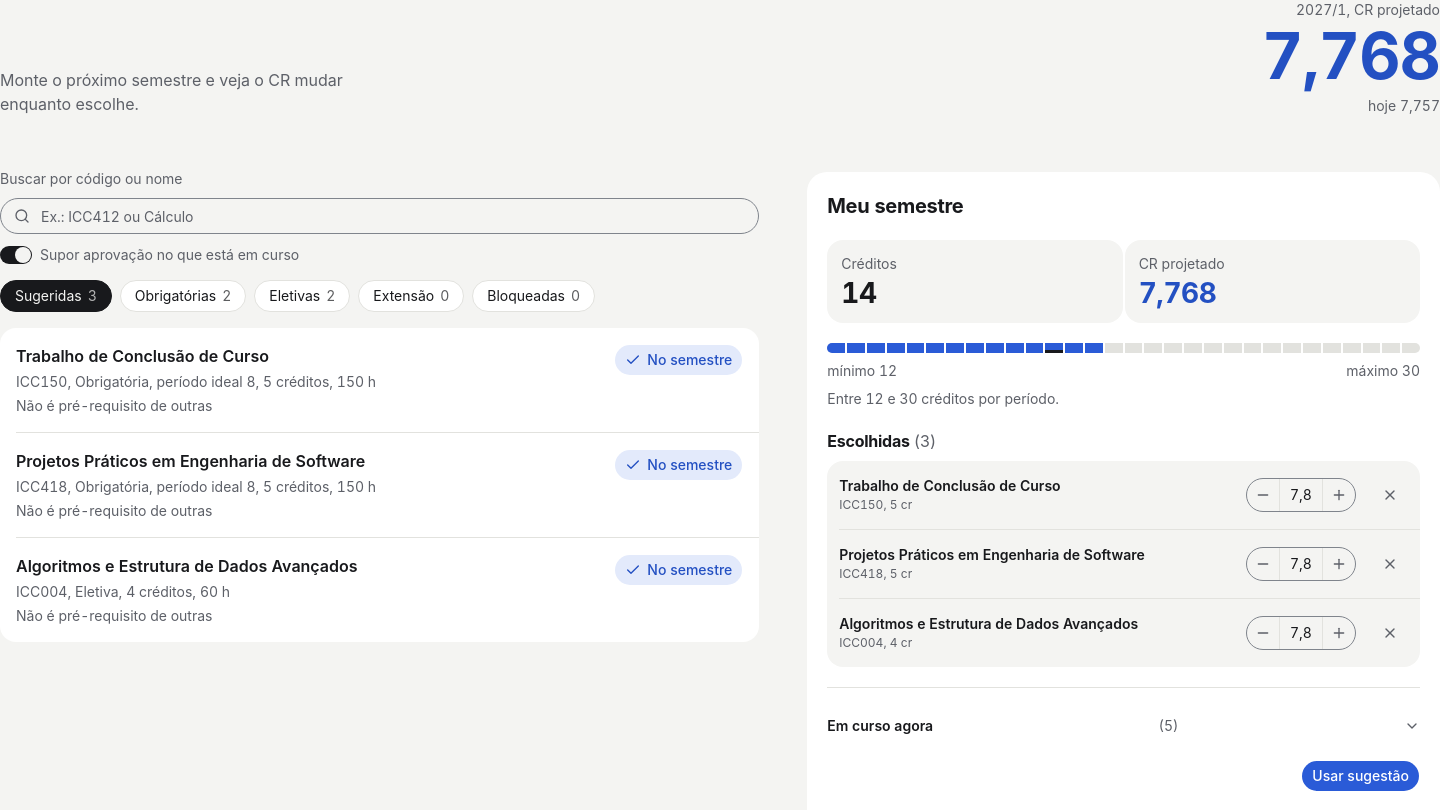
Scenario: PlanningScreen › shows blocked courses with what is missing, and does not let them be added
Click the switch named "Supor aprovação". click: (16, 255)
box: [0,246,32,264]
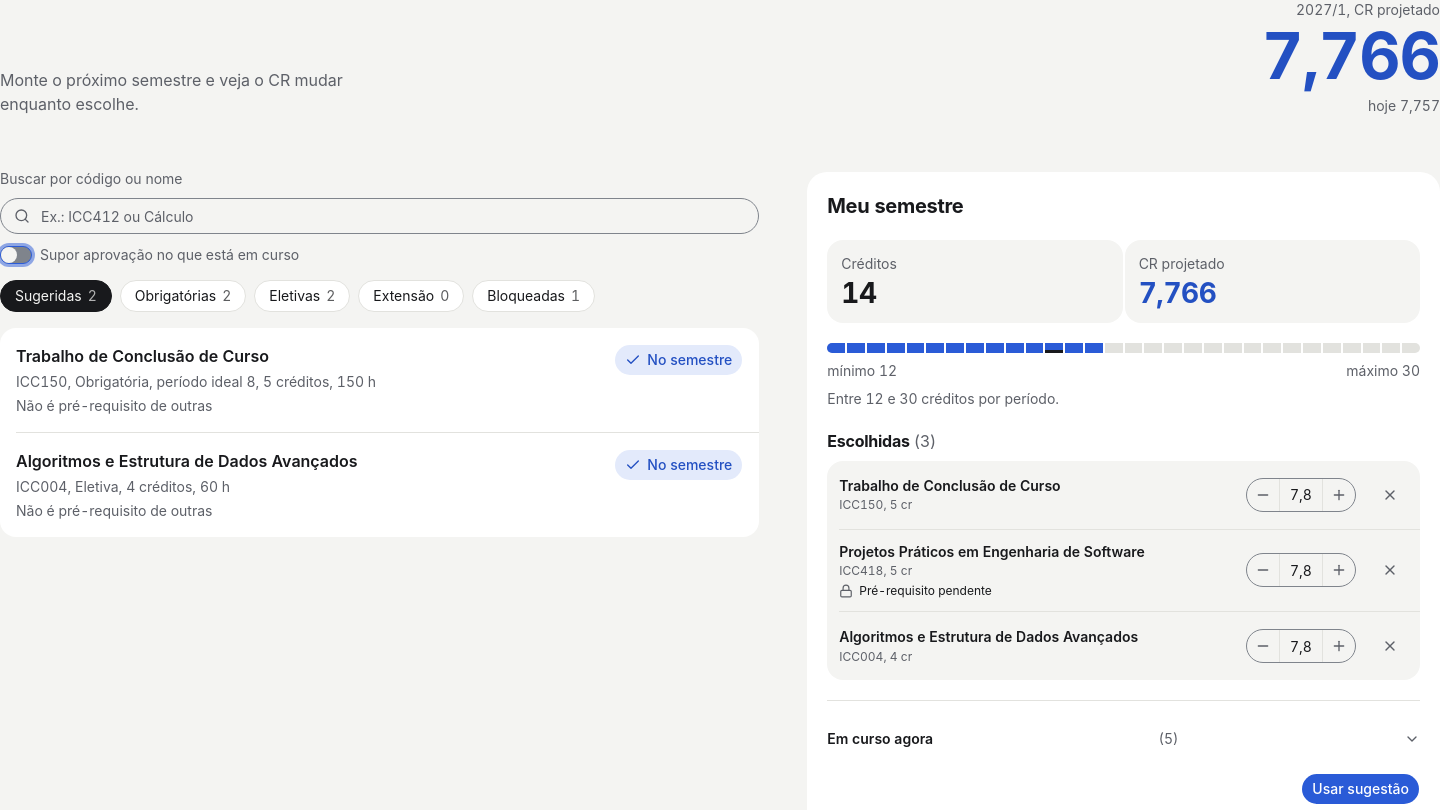
Click the radio button named "Bloqueadas,". click: (534, 296)
box: [472,280,595,312]
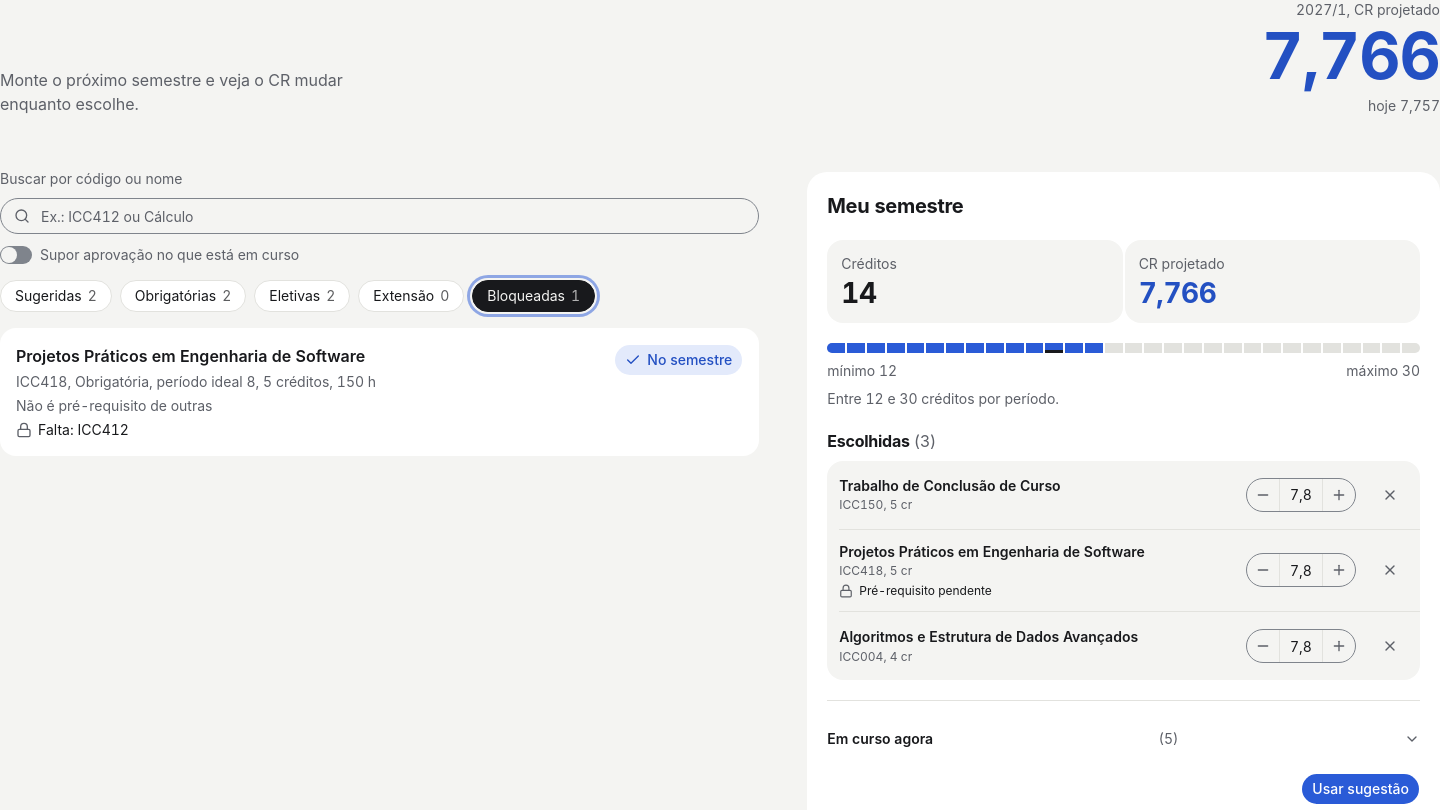
Click the button "No semestre". click: (679, 360)
box: [614,344,743,376]
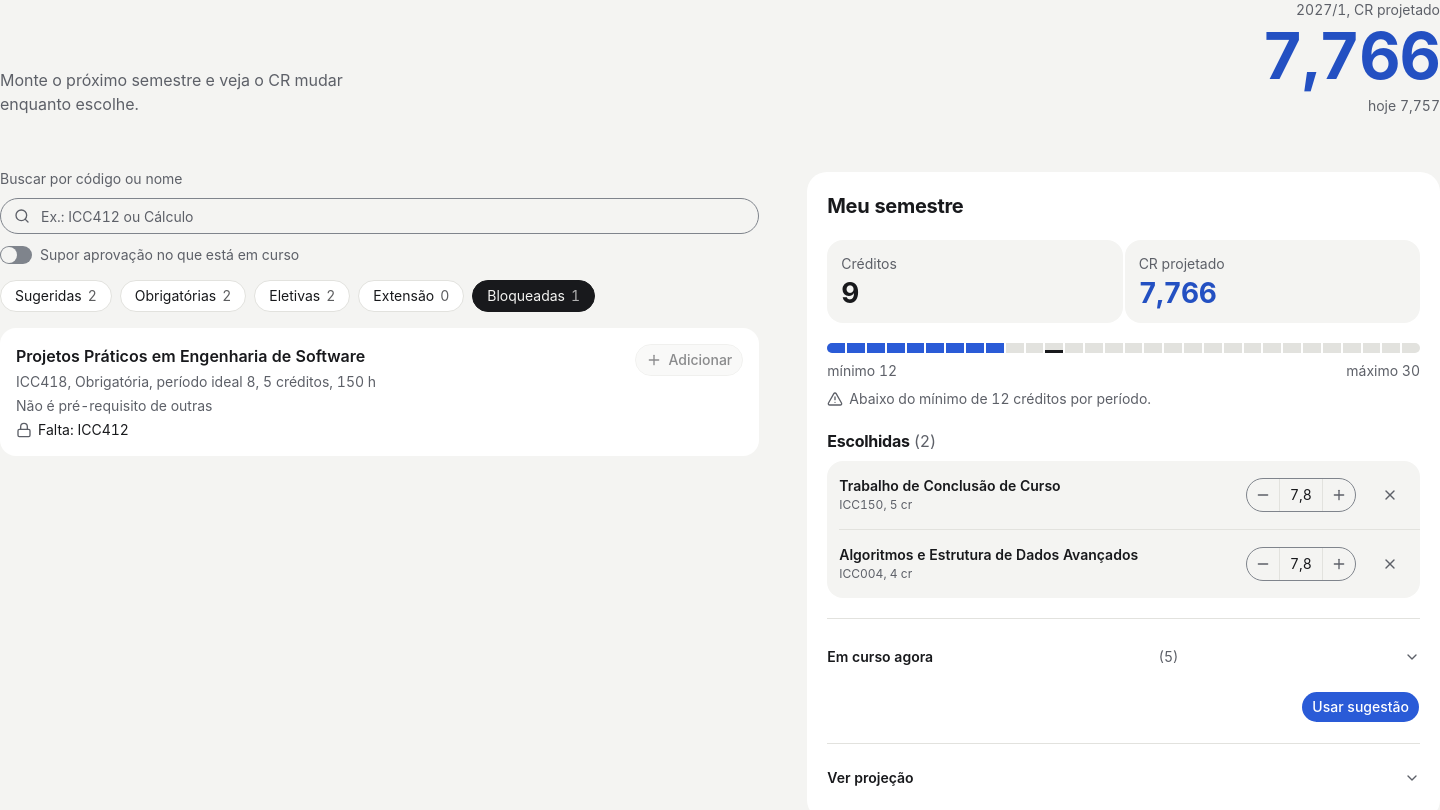
Expected: the button "Adicionar " is disabled, [635,344,743,376]
